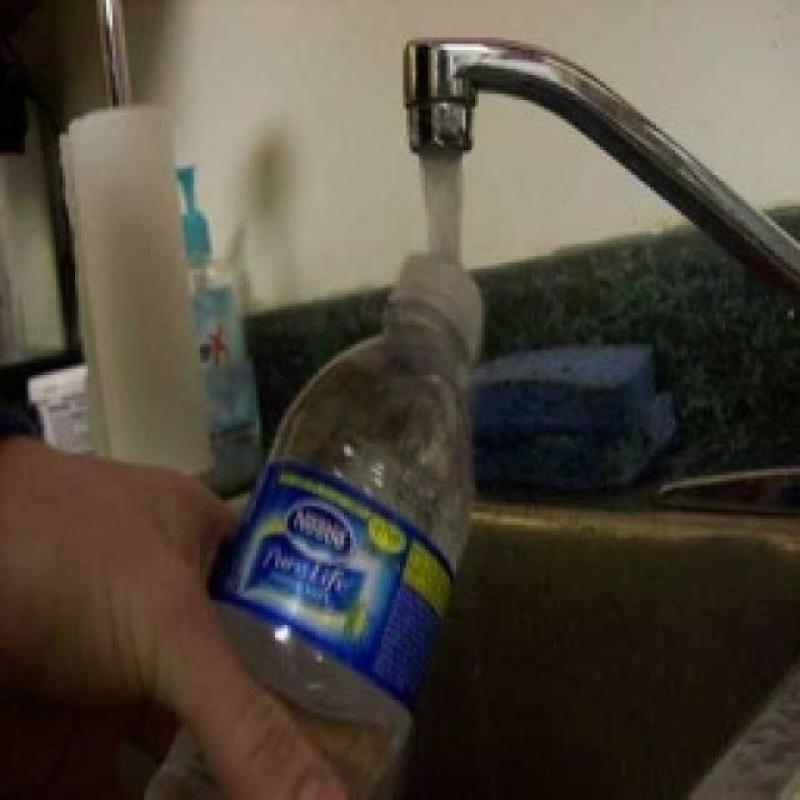botella: (150, 252, 485, 800)
